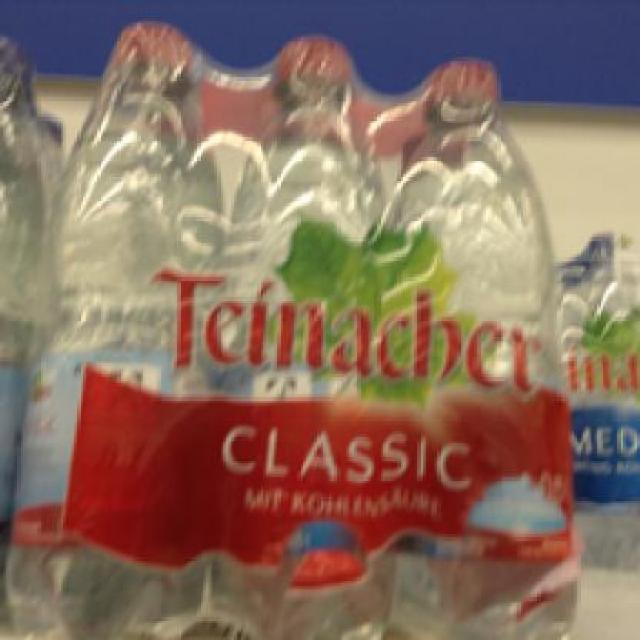Water: (14, 14, 220, 637), (377, 54, 580, 637), (217, 25, 386, 638)
